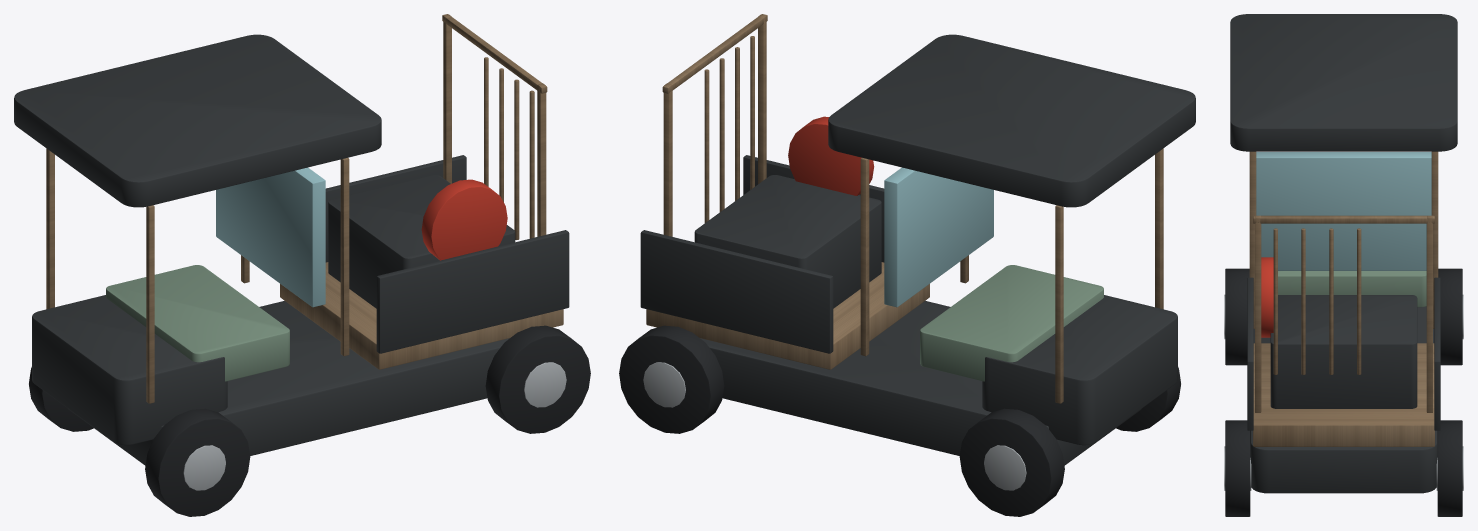
The model's file is maintenance_cart_premium.glb.
The picture shows the model from 3 angles, left to right: view 1: azimuth 30°, elevation 25°; view 2: azimuth 150°, elevation 25°; view 3: azimuth 270°, elevation 25°; orthographic projection. The views are drawn at different scales.
Parts seen in each view (by area): view 1: Canopy_Roof, ServiceCart_Chassis, ServiceCart_Hood, ServiceCart_BedSide_L, ServiceCart_Seat, ServiceCart_Windshield, ServiceCart_Toolbox, ServiceWheel_Front_L_Tire, ServiceWheel_Rear_L_Tire, ServiceCart_BedFloor, Maintenance_HoseReel, ServiceCart_BedSide_R (+13 smaller); view 2: Canopy_Roof, ServiceCart_Chassis, ServiceCart_Hood, ServiceCart_BedSide_R, ServiceCart_Toolbox, ServiceCart_Seat, ServiceCart_Windshield, ServiceWheel_Front_R_Tire, ServiceWheel_Rear_R_Tire, ServiceCart_BedFloor, Maintenance_HoseReel, Canopy_Post_2_2 (+13 smaller); view 3: Canopy_Roof, ServiceCart_Windshield, ServiceCart_Toolbox, ServiceCart_Chassis, ServiceCart_BedFloor, ServiceCart_Seat, ServiceWheel_Rear_L_Tire, ServiceWheel_Rear_R_Tire, ServiceWheel_Front_L_Tire, ServiceWheel_Front_R_Tire, ServiceCart_SafetyRackTop, ServiceCart_SafetyRackPost_L (+10 smaller).
Boxes of the visible parts, x1=… form: Canopy_Roof: x1=14, y1=34, x2=381, y2=207; ServiceCart_Chassis: x1=68, y1=301, x2=509, y2=465; ServiceCart_Hood: x1=32, y1=295, x2=227, y2=445; ServiceCart_BedSide_L: x1=376, y1=230, x2=569, y2=353; ServiceCart_Seat: x1=106, y1=265, x2=289, y2=381; ServiceCart_Windshield: x1=216, y1=167, x2=325, y2=307; ServiceCart_Toolbox: x1=328, y1=175, x2=515, y2=308; ServiceWheel_Front_L_Tire: x1=145, y1=408, x2=250, y2=516; ServiceWheel_Rear_L_Tire: x1=485, y1=325, x2=590, y2=433; ServiceCart_BedFloor: x1=280, y1=262, x2=563, y2=369; Maintenance_HoseReel: x1=421, y1=179, x2=507, y2=260; ServiceCart_BedSide_R: x1=325, y1=155, x2=466, y2=262; Canopy_Roof: x1=828, y1=34, x2=1195, y2=207; ServiceCart_Chassis: x1=700, y1=301, x2=1141, y2=465; ServiceCart_Hood: x1=982, y1=295, x2=1177, y2=445; ServiceCart_BedSide_R: x1=640, y1=230, x2=833, y2=353; ServiceCart_Toolbox: x1=694, y1=175, x2=881, y2=308; ServiceCart_Seat: x1=920, y1=265, x2=1103, y2=381; ServiceCart_Windshield: x1=884, y1=167, x2=993, y2=307; ServiceWheel_Front_R_Tire: x1=959, y1=408, x2=1064, y2=516; ServiceWheel_Rear_R_Tire: x1=619, y1=325, x2=724, y2=433; ServiceCart_BedFloor: x1=646, y1=262, x2=929, y2=369; Maintenance_HoseReel: x1=788, y1=116, x2=874, y2=195; Canopy_Post_2_2: x1=860, y1=157, x2=869, y2=356; Canopy_Roof: x1=1230, y1=14, x2=1457, y2=151; ServiceCart_Windshield: x1=1256, y1=152, x2=1431, y2=270; ServiceCart_Toolbox: x1=1270, y1=295, x2=1417, y2=408; ServiceCart_Chassis: x1=1250, y1=306, x2=1437, y2=493; ServiceCart_BedFloor: x1=1253, y1=343, x2=1434, y2=446; ServiceCart_Seat: x1=1278, y1=271, x2=1426, y2=307; ServiceWheel_Rear_L_Tire: x1=1225, y1=420, x2=1250, y2=516; ServiceWheel_Rear_R_Tire: x1=1437, y1=420, x2=1462, y2=516; ServiceWheel_Front_L_Tire: x1=1225, y1=268, x2=1249, y2=365; ServiceWheel_Front_R_Tire: x1=1438, y1=268, x2=1462, y2=365; ServiceCart_SafetyRackTop: x1=1253, y1=215, x2=1434, y2=223; ServiceCart_SafetyRackPost_L: x1=1255, y1=215, x2=1261, y2=412.
Size of what is drawn, in the model's own units: 2.63 by 1.9 by 1.31.
8 materials, 1 textured.
